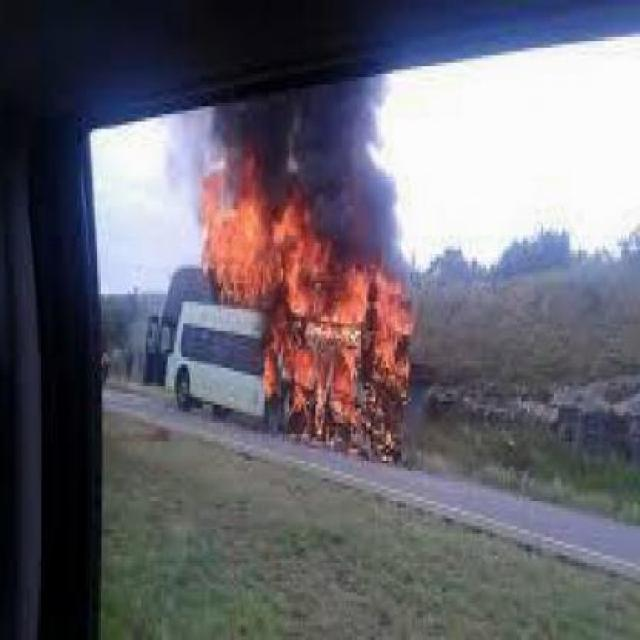Fire: (182, 143, 420, 449)
Smoke: (315, 48, 420, 217)
